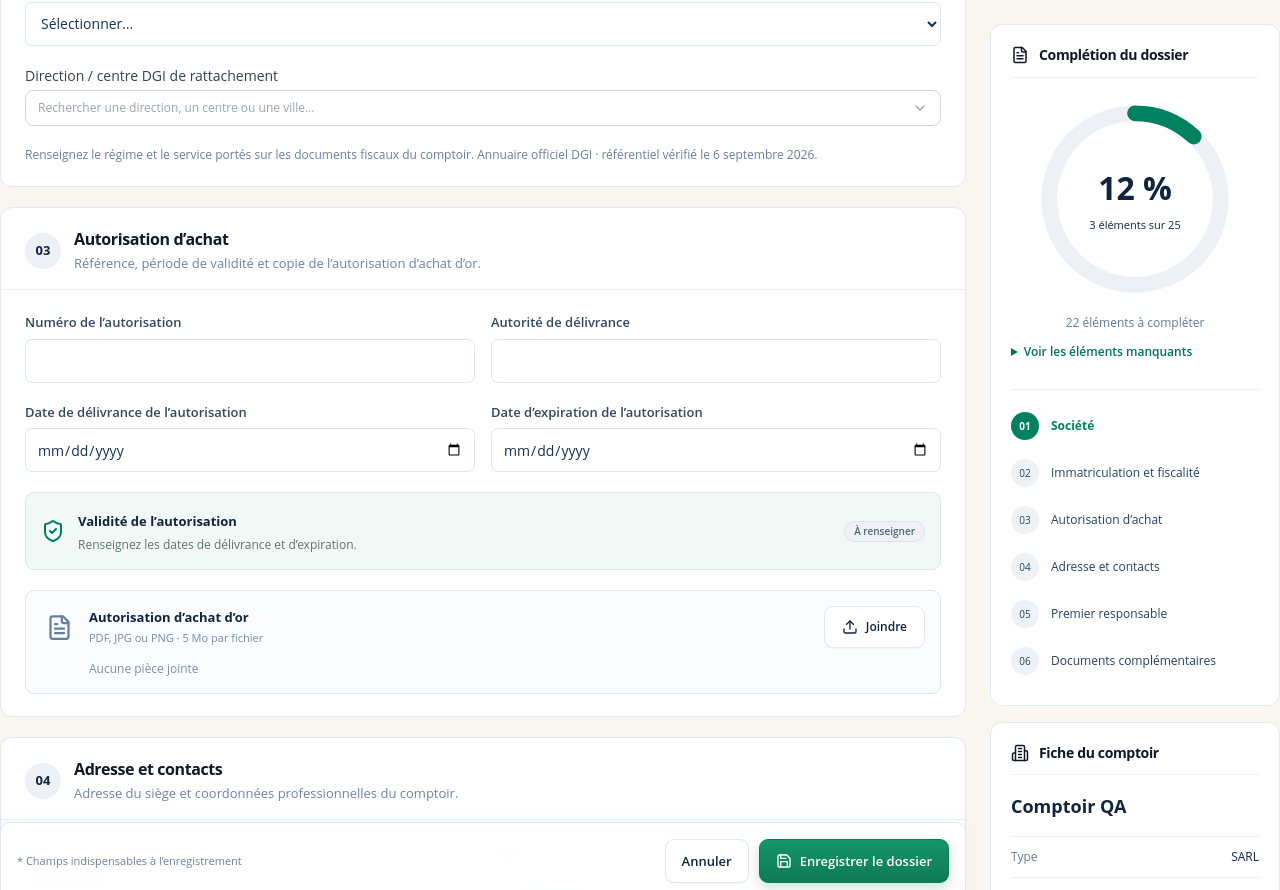
it: Dossier entreprise du comptoir › recalcule la validité lorsque les deux dates sont renseignées
(page scrolled)
Type "2026-01-01" into the date field labelled "Date de délivrance de l’autorisation" at (250, 450), box [25,428,475,472]
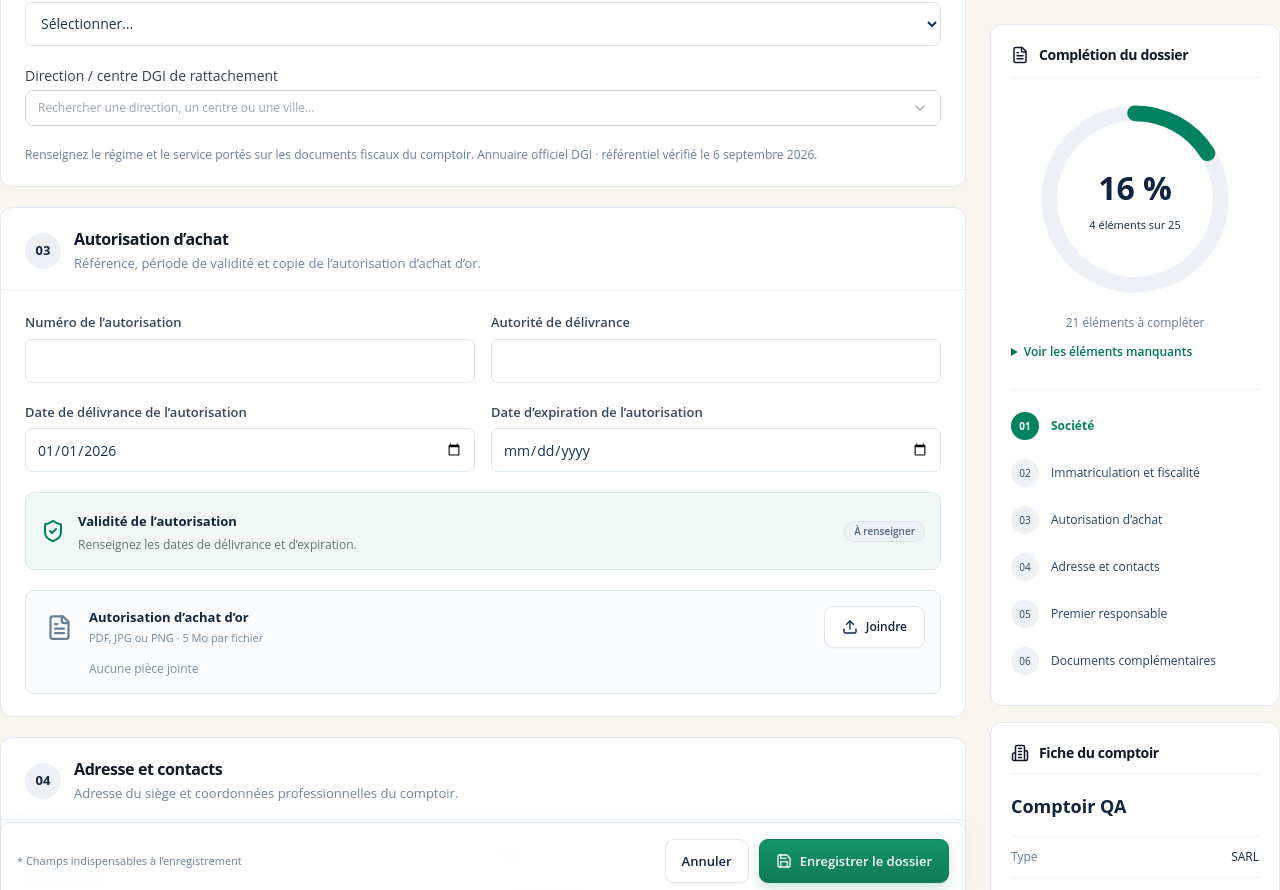
Type "2026-12-31" into the date field labelled "Date d’expiration de l’autorisation" at (716, 450), box [491,428,941,472]
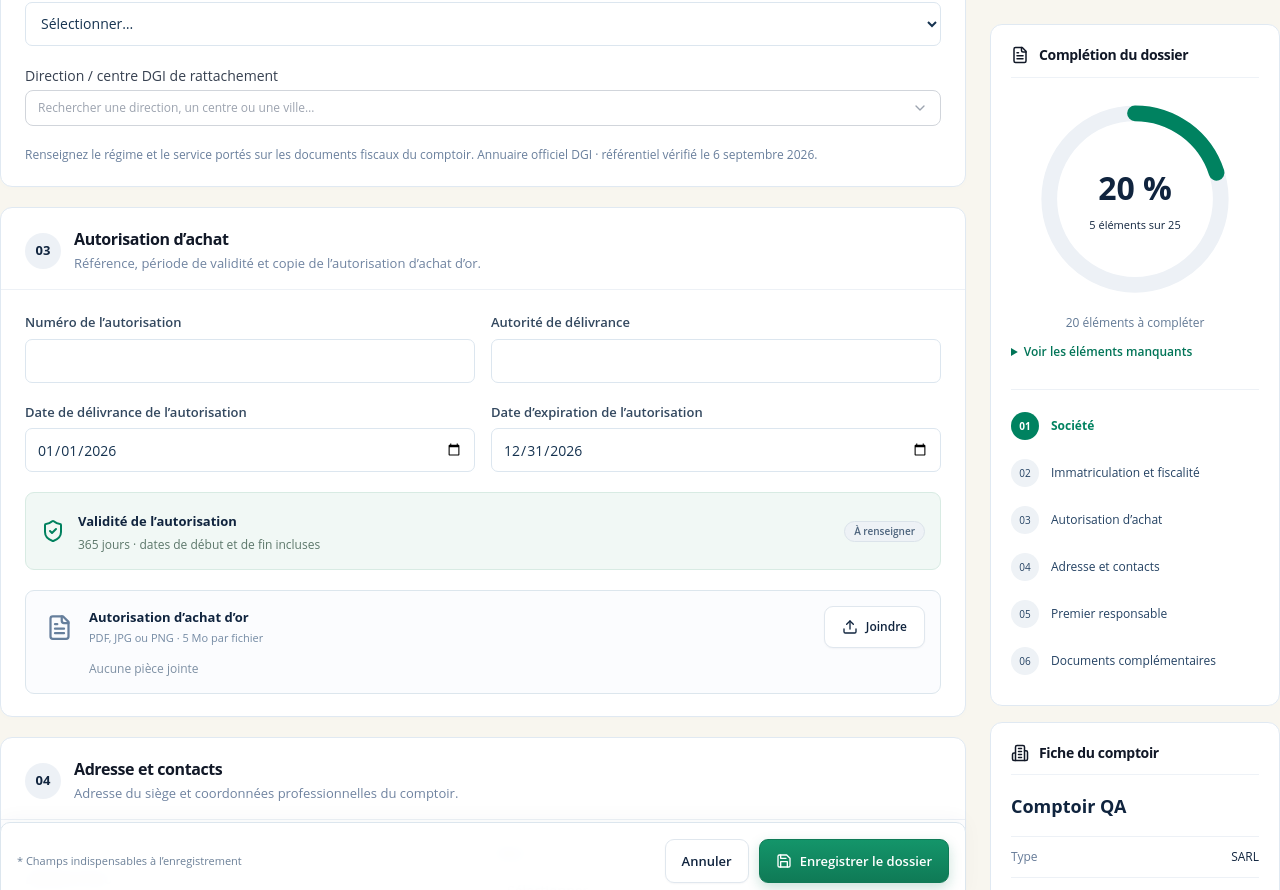
Check: the text "365 jours · dates de début et de fin incluses" is shown, box [78,536,320,553]
